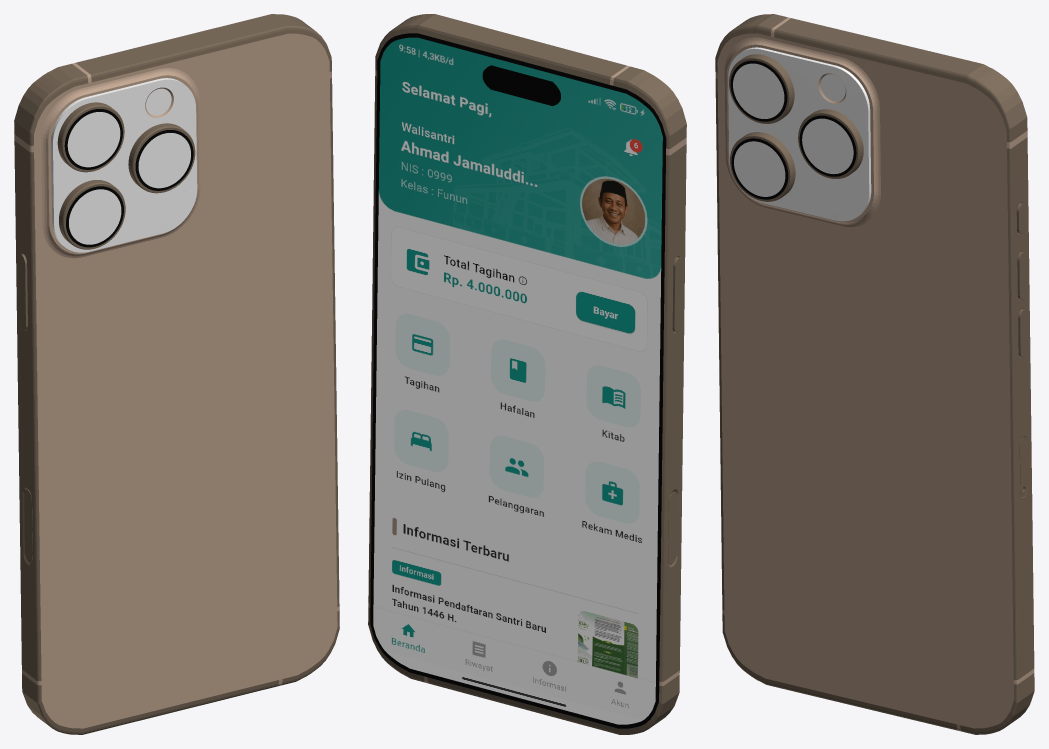
File: modelku.glb
3 views of the same model, side by side, from view 1: azimuth 30°, elevation 25°; view 2: azimuth 150°, elevation 25°; view 3: azimuth 330°, elevation 25° (orthographic).
Parts seen in each view (by area): view 1: case; view 2: case; view 3: case.
Part boxes in pixels (<box>): case: <box>14,14,339,734</box>; case: <box>368,14,686,734</box>; case: <box>715,14,1034,734</box>.
Size of the model in its own units: 0.797 by 1.64 by 0.1286.
Materials: 12 (1 with a texture image).
